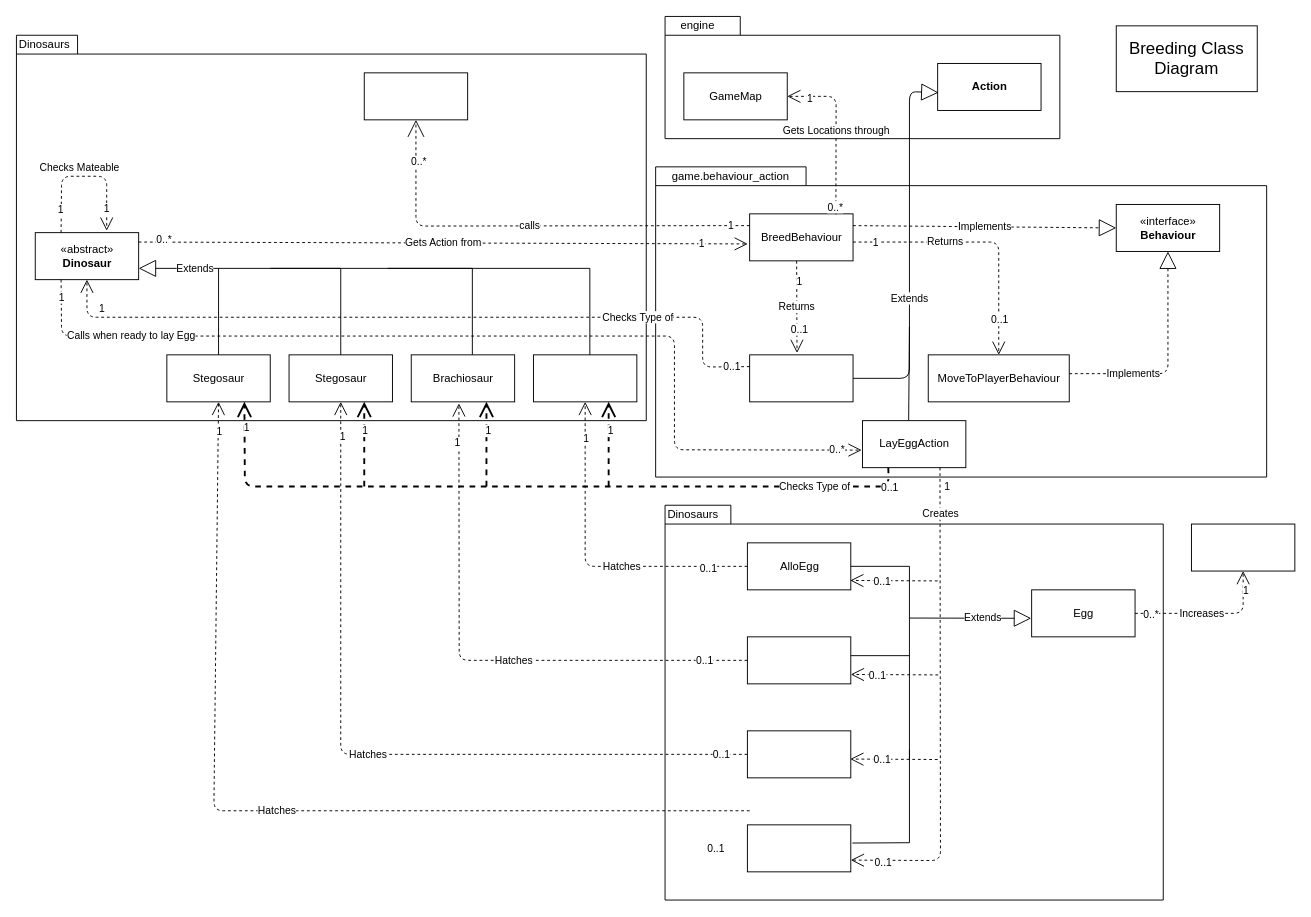
Image size: 1311x917. Some labels were removed from this diagram. Here are the shapes that lost their labels. From the top down, the centre of each, then its label:
the point at 415,96: «interface» DinoAge
the point at 585,378: Allosaur
the point at 801,378: BreedAction
the point at 1243,547: EcoPoints
the point at 798,660: BrachEgg
the point at 798,754: StegEgg
the point at 798,848: PteroEgg
